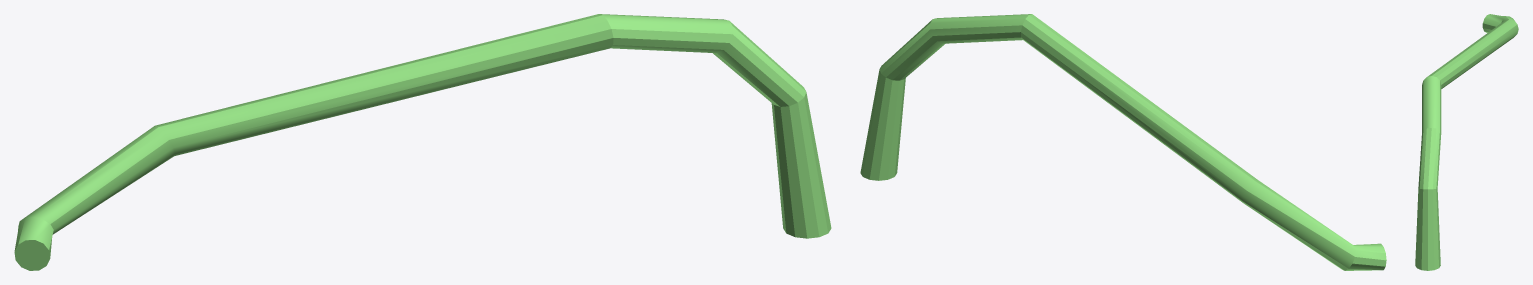
3 views of the same model, side by side, from view 1: azimuth 30°, elevation 25°; view 2: azimuth 150°, elevation 25°; view 3: azimuth 270°, elevation 25° (orthographic). The views are drawn at different scales.
Visible parts, largest first — view 1: polySurface4; view 2: polySurface4; view 3: polySurface4.
Boxes of the visible parts, <box> form: polySurface4: <box>14,14,831,270</box>; polySurface4: <box>860,14,1386,270</box>; polySurface4: <box>1415,14,1518,270</box>.
Bounding box in the file's own units: 13.48 × 4.45 × 3.04.
